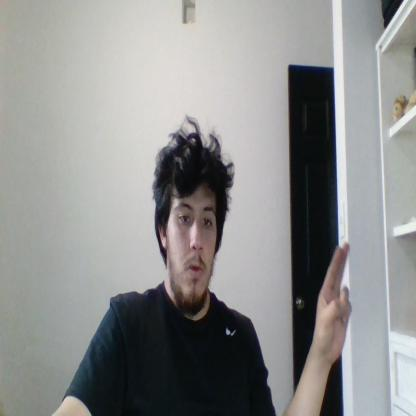U: (315, 242, 352, 362)
